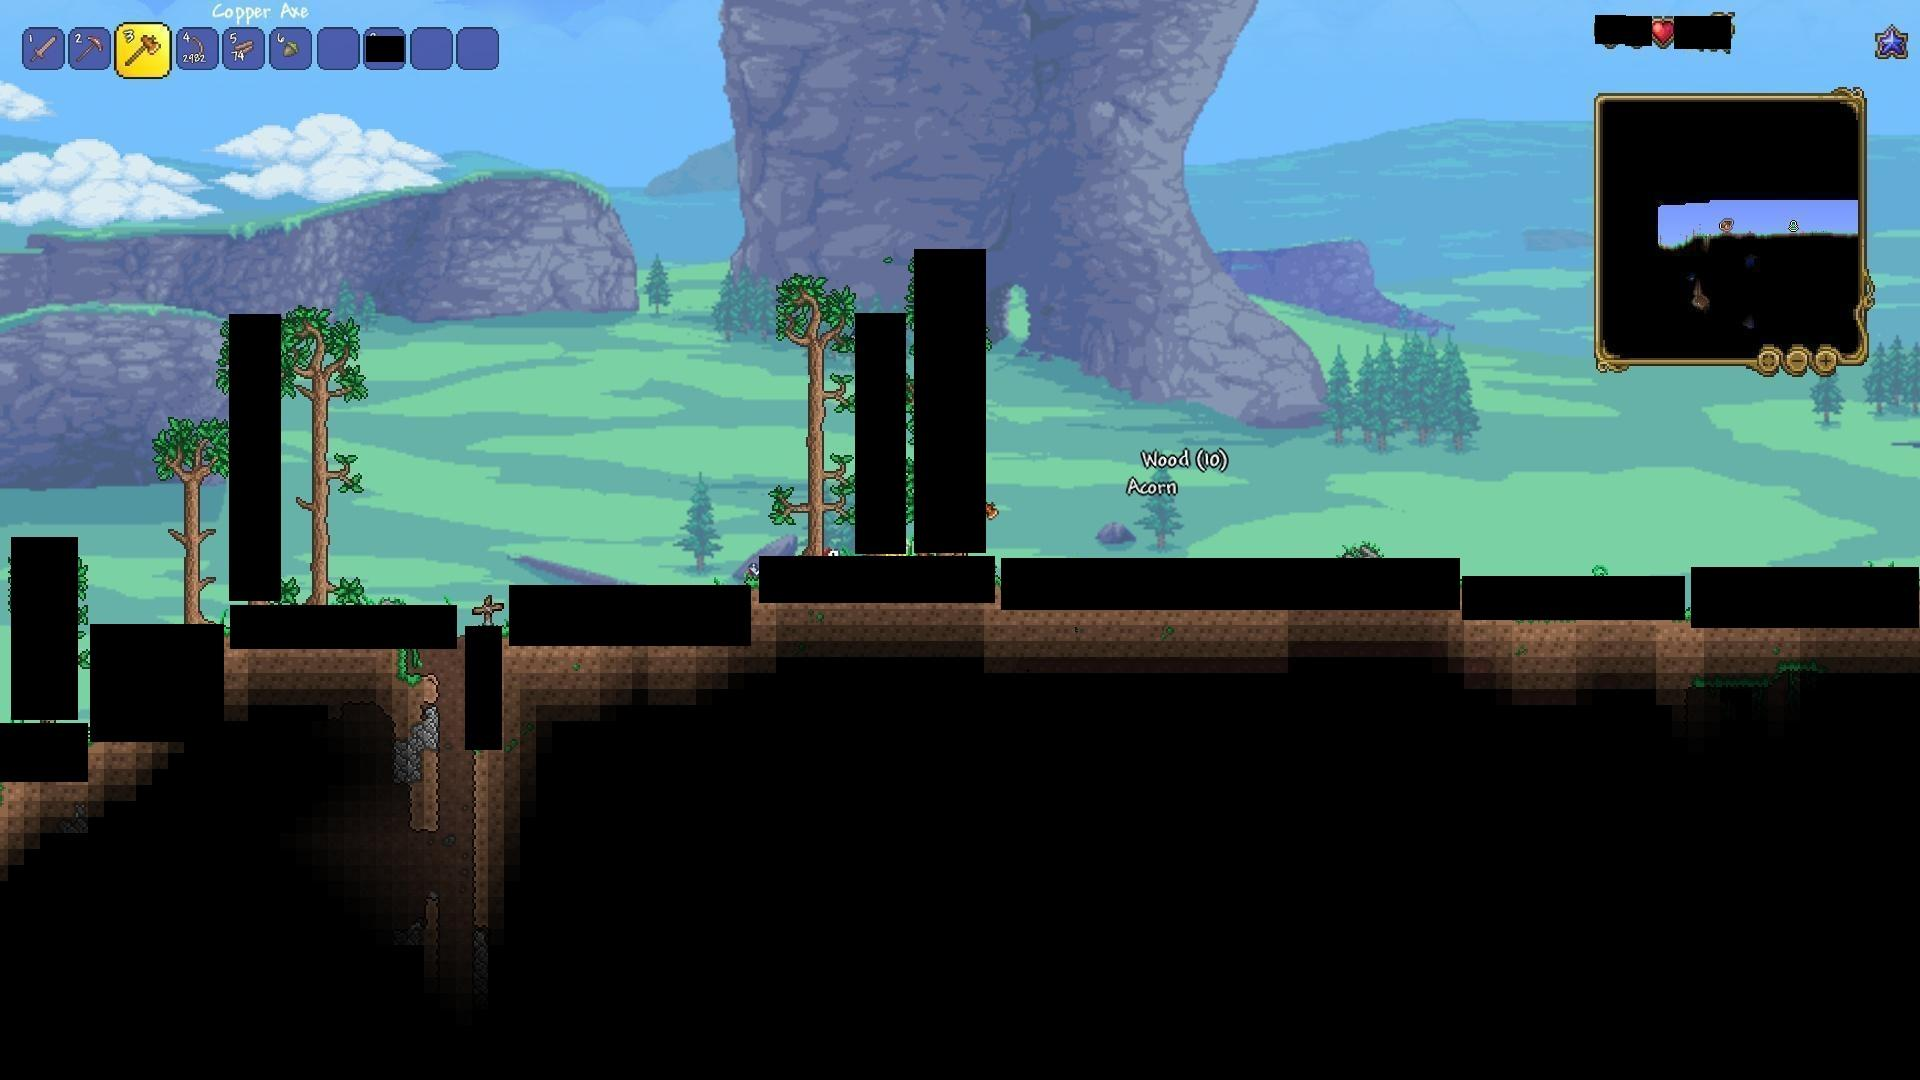heart: (1648, 17, 1676, 47)
tree: (769, 273, 849, 550), (291, 313, 357, 603), (160, 409, 225, 618)
wood: (229, 32, 255, 65)
